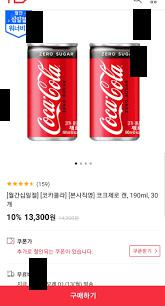cocacola_zero: (24, 41, 78, 142), (88, 41, 141, 143)
